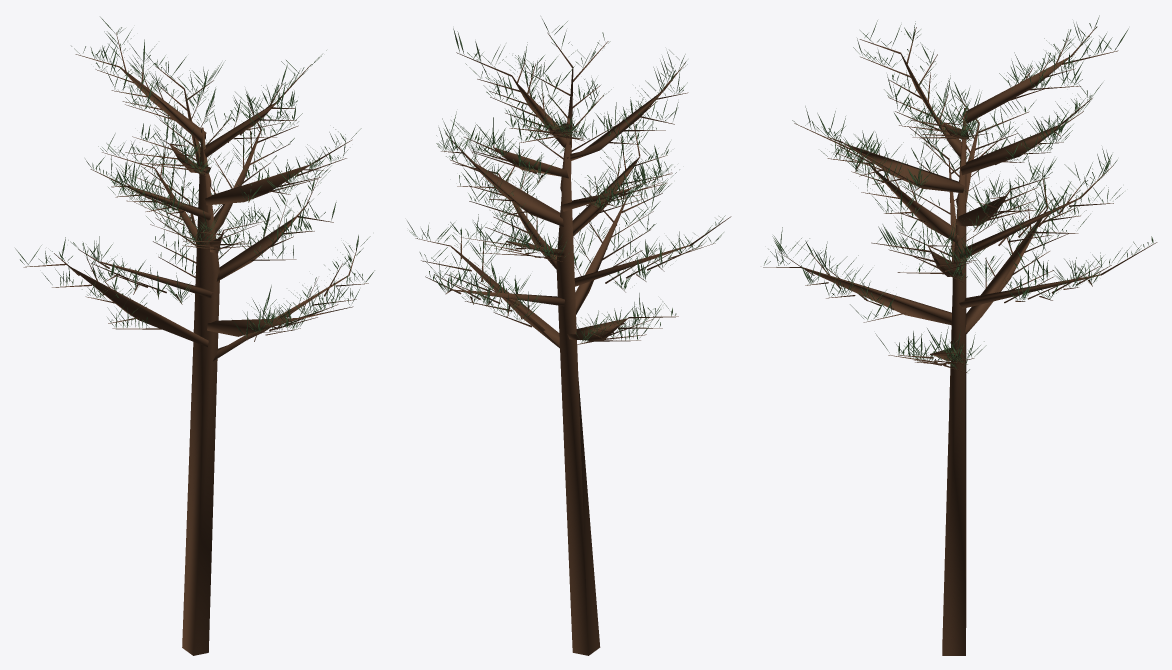
The model's file is mature-scots-pine-lod.glb.
3 renders of one model, left to right at view 1: azimuth 30°, elevation 25°; view 2: azimuth 150°, elevation 25°; view 3: azimuth 270°, elevation 25°, orthographic. The views are drawn at different scales.
Parts seen in each view (by area): view 1: Fine connected conifer branchlets, Closed conifer needle sprays; view 2: Fine connected conifer branchlets, Closed conifer needle sprays; view 3: Fine connected conifer branchlets, Closed conifer needle sprays.
Boxes of the visible parts, x1=… form: Fine connected conifer branchlets: x1=23, y1=32, x2=368, y2=655; Closed conifer needle sprays: x1=15, y1=17, x2=374, y2=337; Fine connected conifer branchlets: x1=415, y1=32, x2=731, y2=655; Closed conifer needle sprays: x1=407, y1=19, x2=725, y2=343; Fine connected conifer branchlets: x1=763, y1=26, x2=1157, y2=655; Closed conifer needle sprays: x1=764, y1=15, x2=1153, y2=371.
Bounding box in the file's own units: 10.06 × 17.99 × 10.49.
2 materials, 2 textured.
